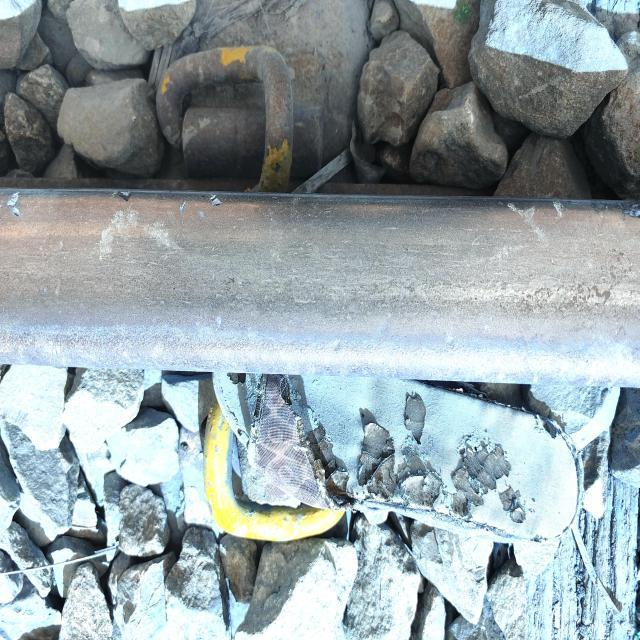Good Fasteners: (173, 376, 341, 541), (156, 45, 324, 192)
